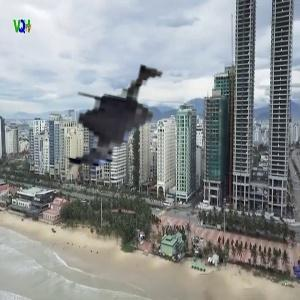drone: (43, 26, 239, 222)
